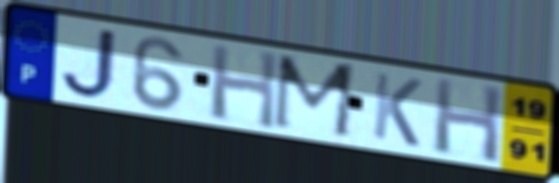6: (129, 32, 188, 114)
H: (208, 41, 281, 133), (431, 75, 504, 167)
J: (57, 25, 121, 101)
K: (369, 68, 426, 150)
M: (268, 51, 362, 143)
